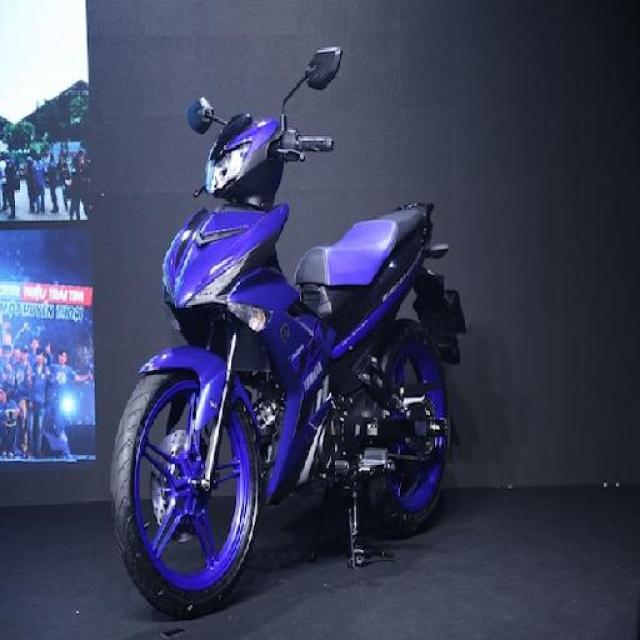All: (104, 115, 469, 613)
Head: (196, 117, 333, 207)
Tail: (380, 193, 456, 267)
